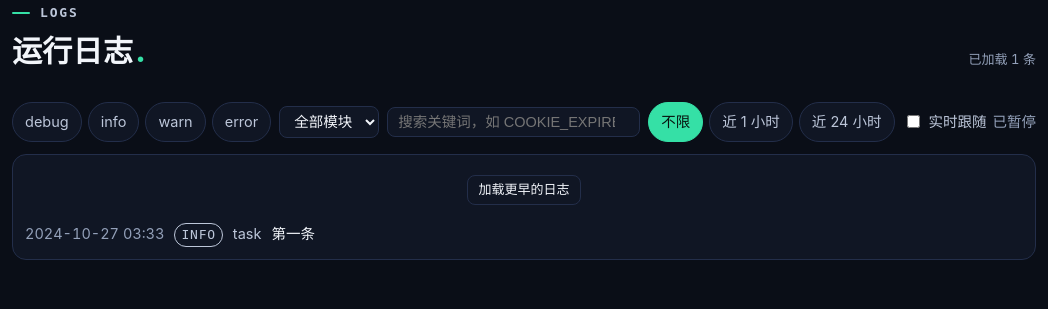
Scenario: Logs 视图 › 分页到底：next_cursor 与请求的 cursor 相同 → 隐藏按钮并提示「没有更多日志」
Click the button "加载更早的日志".
click(524, 190)  # box left=468, top=175, right=580, bottom=205
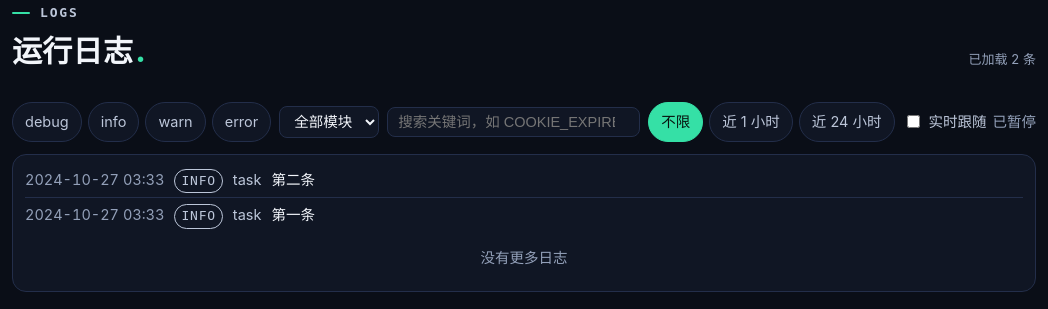
expect the number of list items with class "log-row" is 2: met, box left=25, top=163, right=1023, bottom=198; left=25, top=204, right=315, bottom=229
